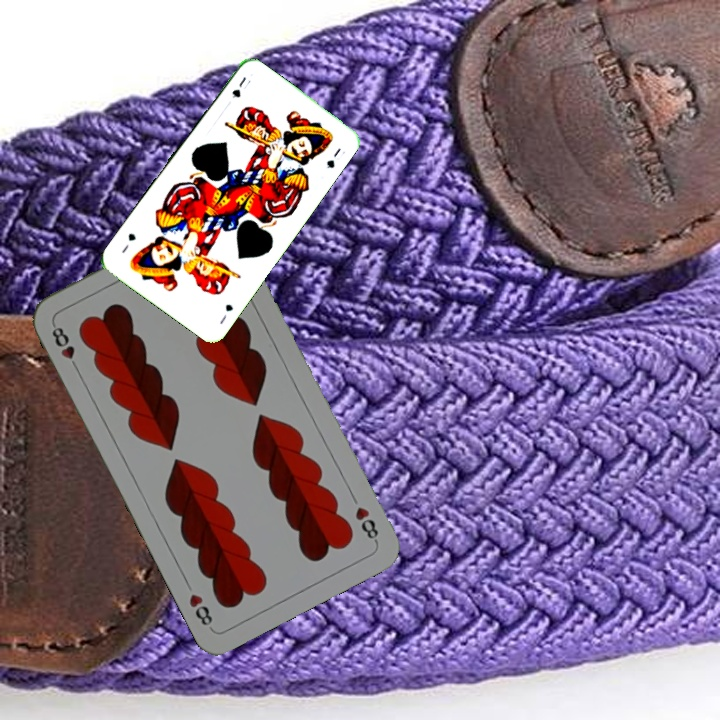GU: (228, 73, 249, 101), (215, 300, 236, 327)
H8: (47, 319, 82, 374), (351, 502, 381, 545)
